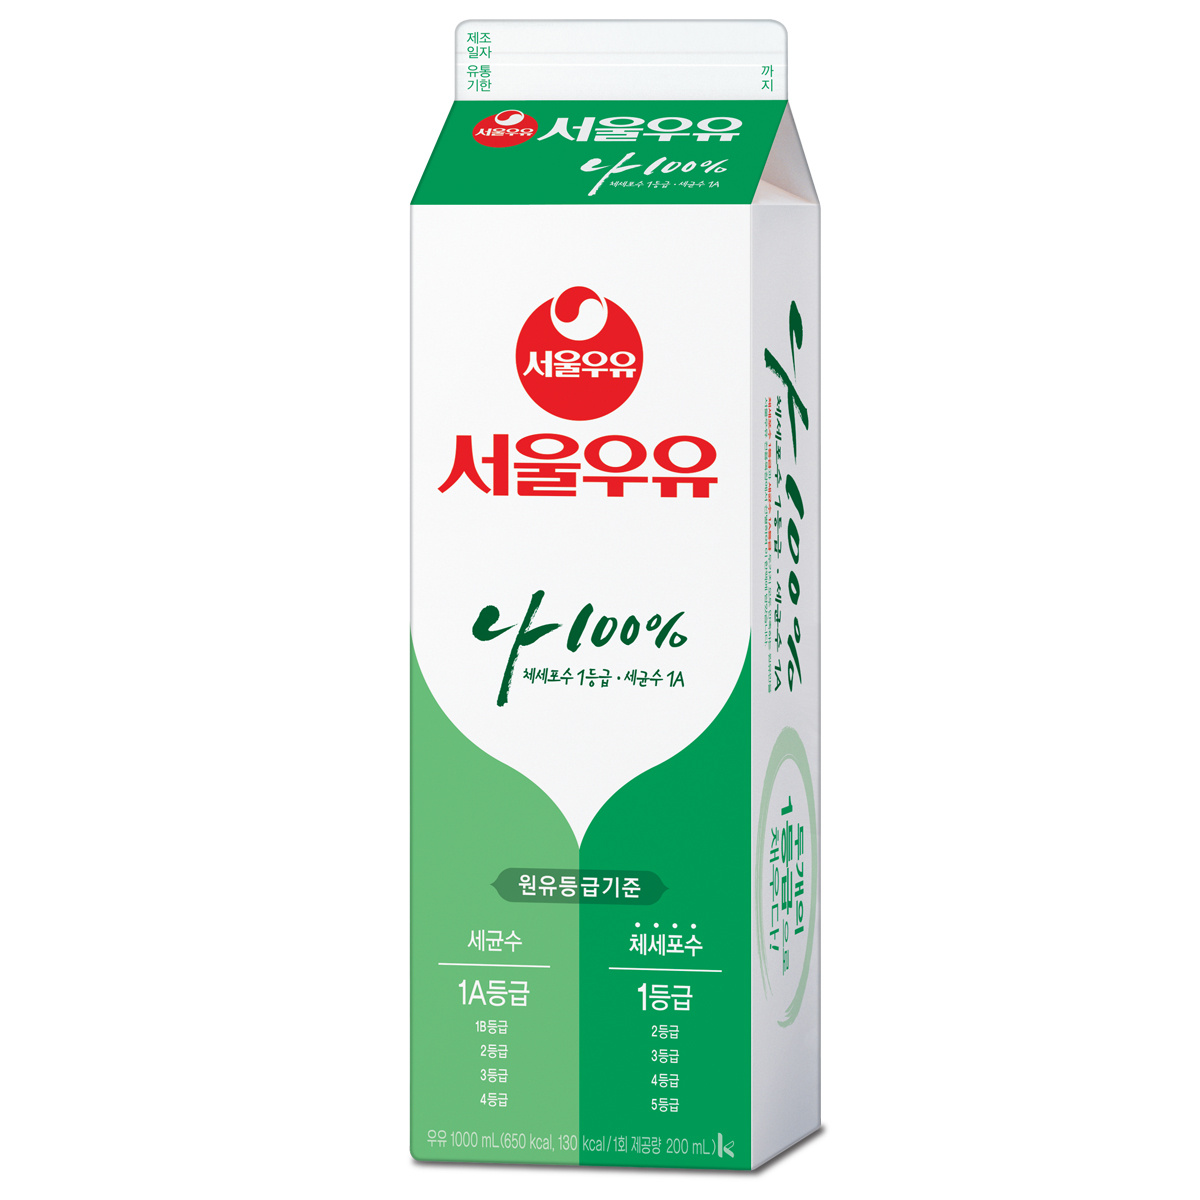milk: (404, 16, 821, 1170)
